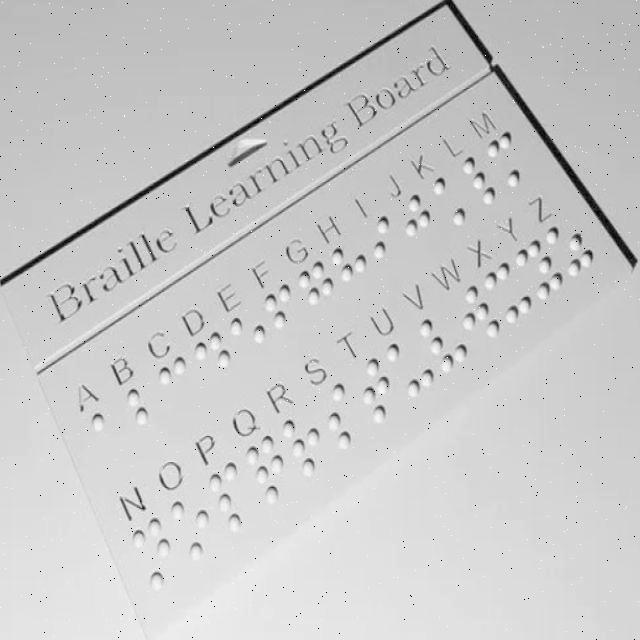A: (83, 395, 141, 476)
B: (121, 372, 177, 450)
C: (152, 350, 211, 430)
D: (190, 325, 246, 403)
E: (223, 301, 281, 381)
F: (258, 276, 315, 357)
G: (294, 253, 350, 331)
H: (326, 233, 384, 307)
I: (358, 210, 418, 284)
J: (391, 187, 450, 261)
K: (427, 163, 486, 235)
M: (481, 124, 537, 195)
N: (123, 506, 191, 600)
O: (164, 481, 229, 569)
P: (203, 454, 265, 542)
Q: (238, 425, 303, 511)
R: (277, 403, 340, 484)
S: (312, 375, 374, 457)
T: (350, 351, 408, 433)
U: (381, 327, 441, 405)
W: (415, 303, 475, 380), (449, 280, 507, 353)
X: (481, 257, 539, 330)
Y: (512, 233, 568, 307)
Z: (542, 212, 600, 285)
